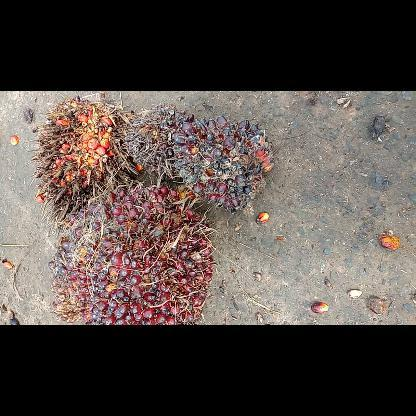TBS abnormal: (164, 113, 274, 209), (118, 100, 194, 178)
TBS masak: (46, 181, 220, 324)
Terlalu masak: (29, 96, 133, 226)
